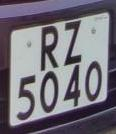0: (37, 69, 62, 114), (81, 59, 105, 105)
4: (63, 62, 84, 112)
5: (13, 67, 40, 127)
R: (36, 22, 63, 72)
Z: (60, 17, 85, 66)
